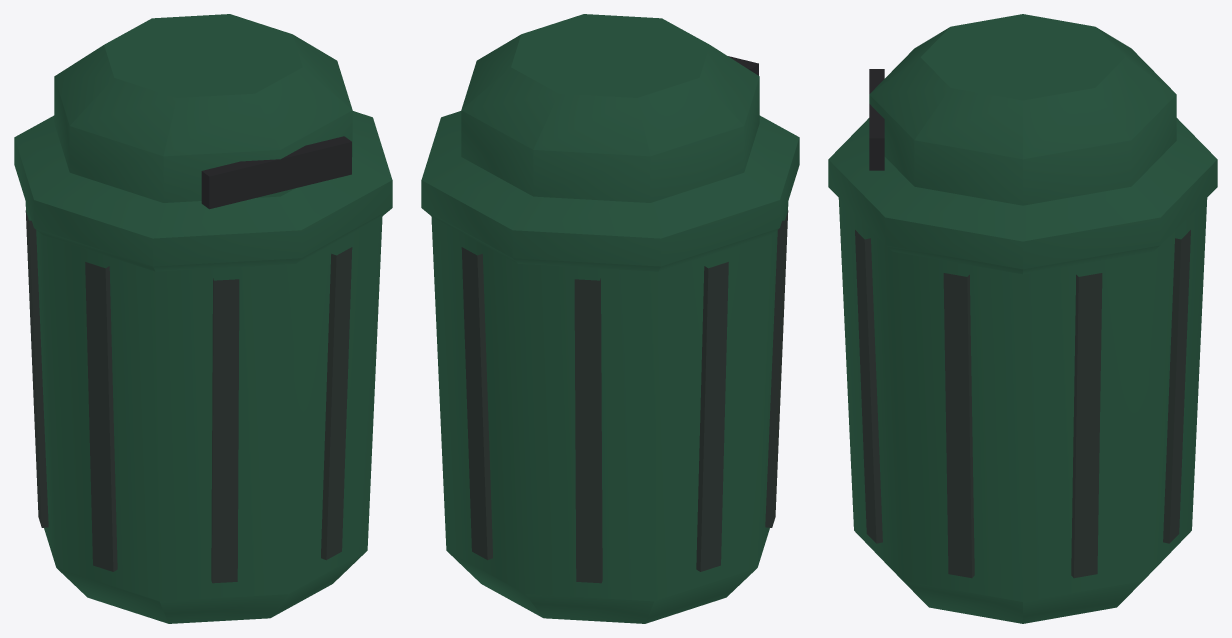
Rendered from sf_trash_can.glb.
The picture shows the model from 3 angles, left to right: view 1: azimuth 30°, elevation 25°; view 2: azimuth 150°, elevation 25°; view 3: azimuth 270°, elevation 25°; orthographic projection.
Parts seen in each view (by area): view 1: sf_trash_can; view 2: sf_trash_can; view 3: sf_trash_can.
Boxes of the visible parts, <box> form: sf_trash_can: <box>14,14,392,623</box>; sf_trash_can: <box>421,14,799,623</box>; sf_trash_can: <box>828,14,1217,623</box>.
Size of the model in its own units: 0.76 by 1.1 by 0.76.
Materials: 1 (1 with a texture image).
